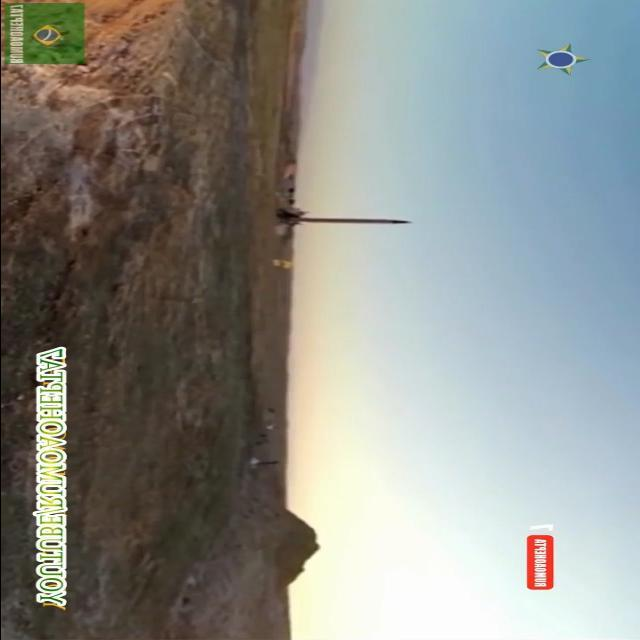Missile: (292, 214, 419, 228)
